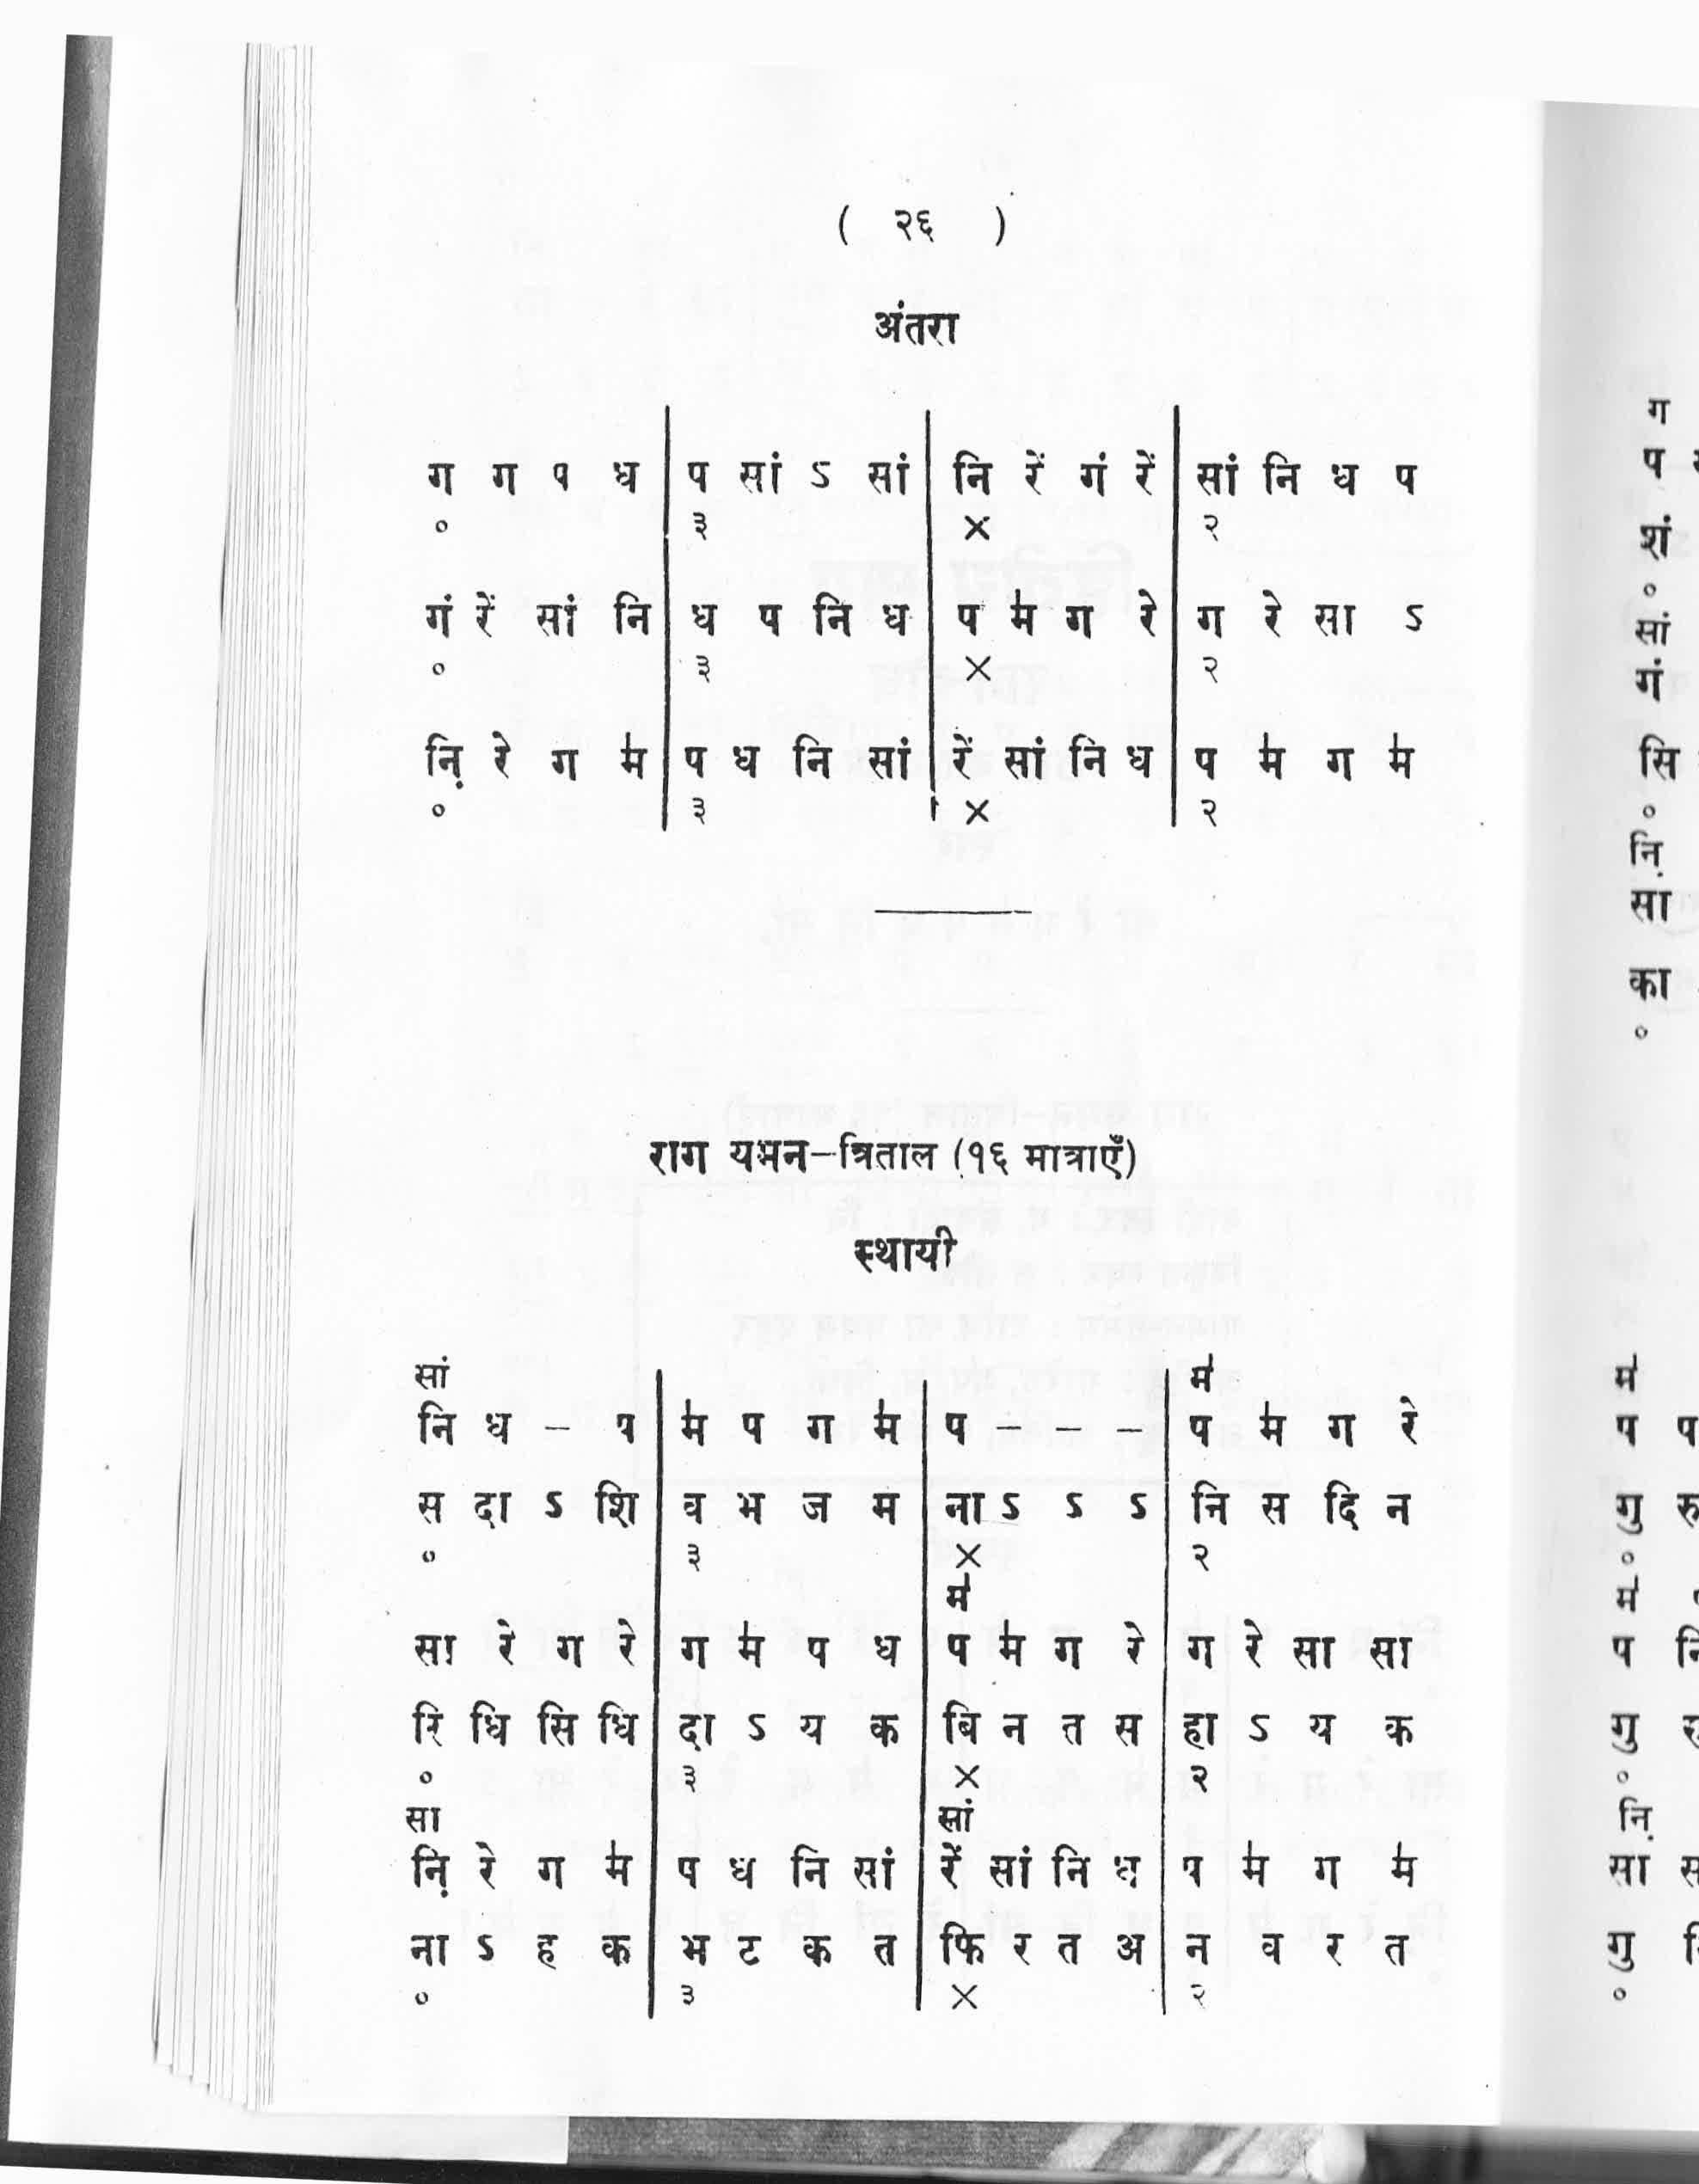char: (422, 727, 466, 791), (410, 1840, 452, 1902), (536, 1696, 582, 1753), (938, 1918, 990, 1968), (592, 1478, 640, 1532), (851, 1844, 899, 1897), (1194, 448, 1243, 498), (534, 590, 582, 642), (949, 447, 995, 500), (867, 736, 915, 785), (736, 450, 787, 496), (596, 1696, 640, 1750), (988, 1844, 1036, 1892), (812, 589, 855, 642), (468, 1696, 511, 1750), (1323, 1478, 1362, 1535), (791, 730, 834, 782), (940, 1696, 983, 1748), (789, 1840, 830, 1893), (867, 450, 912, 498), (417, 1399, 458, 1450), (1190, 1475, 1229, 1528), (1048, 1844, 1091, 1892), (1261, 448, 1302, 498), (614, 589, 653, 640), (410, 1696, 447, 1750), (674, 1711, 720, 1753), (1068, 730, 1108, 778), (1367, 1634, 1415, 1675), (1004, 736, 1046, 780), (411, 1629, 459, 1668), (601, 1837, 635, 1892), (422, 590, 458, 642), (472, 1489, 514, 1532), (935, 1794, 979, 1835), (1077, 447, 1108, 502), (942, 1491, 988, 1528), (1289, 1634, 1335, 1672), (873, 1397, 904, 1450), (1254, 1400, 1289, 1448), (1179, 1711, 1220, 1751), (1257, 587, 1288, 642), (1314, 603, 1358, 640), (408, 1932, 454, 1968), (1133, 585, 1162, 642), (1108, 1852, 1147, 1893), (411, 1354, 454, 1392), (995, 1617, 1027, 1666), (621, 729, 649, 784), (679, 1395, 708, 1450), (1238, 1617, 1266, 1672), (738, 1620, 768, 1672), (1390, 1840, 1421, 1892), (484, 459, 523, 498), (1259, 730, 1288, 784), (1183, 1631, 1218, 1673), (951, 727, 977, 782), (1119, 1617, 1147, 1668), (1243, 1838, 1272, 1890), (867, 1711, 903, 1751), (470, 589, 497, 642), (1011, 587, 1037, 640), (1389, 730, 1415, 784), (474, 1838, 498, 1895), (1194, 603, 1229, 642), (599, 1930, 635, 1969), (426, 457, 459, 498), (796, 1711, 830, 1751), (1259, 1487, 1291, 1530), (798, 1489, 834, 1526), (1052, 1634, 1087, 1672), (1396, 1393, 1421, 1447), (1380, 1714, 1417, 1750), (947, 1978, 984, 2014), (1305, 1711, 1339, 1750), (802, 1930, 835, 1969), (1053, 1929, 1085, 1969), (690, 599, 720, 642), (943, 1572, 974, 1615), (1023, 447, 1048, 498), (493, 1617, 518, 1668), (1181, 1851, 1210, 1895), (731, 743, 764, 780), (481, 1409, 514, 1447), (1311, 1854, 1344, 1892), (1114, 1930, 1147, 1968), (1064, 603, 1096, 642), (415, 1487, 447, 1526), (734, 1487, 766, 1526), (998, 1711, 1030, 1750), (1112, 1711, 1144, 1750), (1327, 1411, 1358, 1450), (940, 1838, 963, 1892), (489, 727, 511, 784), (1325, 746, 1357, 784), (677, 1634, 709, 1672), (536, 1854, 568, 1892), (727, 1856, 759, 1893), (1133, 447, 1156, 498), (615, 1615, 638, 1666), (612, 459, 642, 498), (552, 746, 582, 785), (1330, 459, 1360, 498), (738, 1409, 768, 1448), (1057, 1711, 1087, 1750), (681, 1930, 711, 1969), (942, 1408, 970, 1448), (1383, 1930, 1412, 1971), (1190, 1353, 1217, 1395), (871, 1493, 903, 1528), (873, 1633, 904, 1668), (880, 601, 910, 638), (1124, 743, 1155, 780), (807, 1411, 837, 1448), (1185, 1930, 1215, 1968), (404, 1805, 442, 1835), (756, 601, 784, 640), (956, 601, 984, 640), (965, 792, 993, 831), (736, 1930, 764, 1969), (1323, 1929, 1350, 1969), (555, 1634, 587, 1668), (951, 1762, 984, 1794), (683, 461, 711, 498), (1186, 1411, 1215, 1448), (873, 1930, 899, 1969), (965, 652, 995, 686), (1383, 1493, 1413, 1526), (546, 459, 575, 495), (679, 1491, 708, 1526), (683, 745, 709, 782), (1394, 461, 1421, 498), (1192, 745, 1218, 782), (1259, 1930, 1286, 1968), (676, 1854, 702, 1892), (961, 512, 993, 542), (952, 1540, 984, 1571), (943, 1633, 970, 1668), (1403, 599, 1428, 636), (805, 1634, 830, 1672), (1011, 1930, 1034, 1969), (536, 1932, 559, 1971), (809, 457, 834, 493), (614, 1411, 638, 1447), (1190, 1540, 1215, 1576), (1247, 1714, 1273, 1746), (541, 1487, 566, 1521), (475, 1930, 498, 1966), (743, 1714, 770, 1744), (692, 654, 716, 686), (998, 1491, 1023, 1523), (690, 511, 713, 544), (1188, 1762, 1211, 1796), (1201, 511, 1222, 546), (1199, 796, 1220, 830), (1186, 1982, 1211, 2008), (1130, 1489, 1149, 1523), (681, 1762, 701, 1796), (688, 798, 709, 828), (683, 1542, 704, 1572), (1066, 1491, 1085, 1523), (1201, 656, 1220, 686), (679, 1982, 695, 2008), (995, 1422, 1023, 1436), (541, 1422, 571, 1434), (1053, 1423, 1084, 1436), (411, 1987, 429, 2007), (1116, 1425, 1144, 1436), (435, 519, 450, 537), (431, 661, 447, 679), (429, 803, 447, 819), (420, 1548, 438, 1564), (419, 1767, 433, 1787)
composition: (394, 1328, 1451, 2030), (408, 404, 1445, 856)
title: (849, 1225, 965, 1275), (871, 298, 963, 351)
